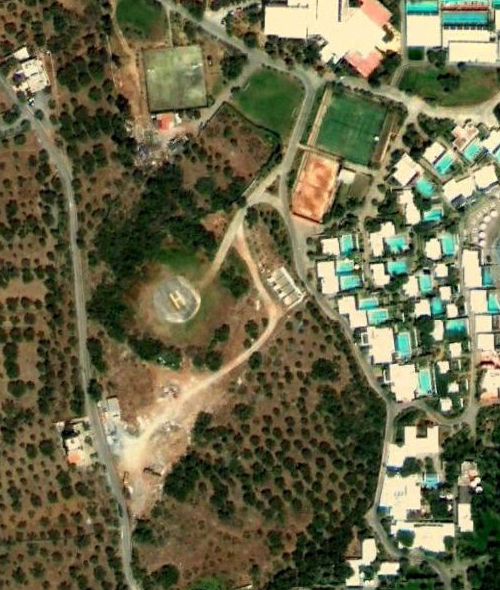heliport: (165, 287, 188, 313)
